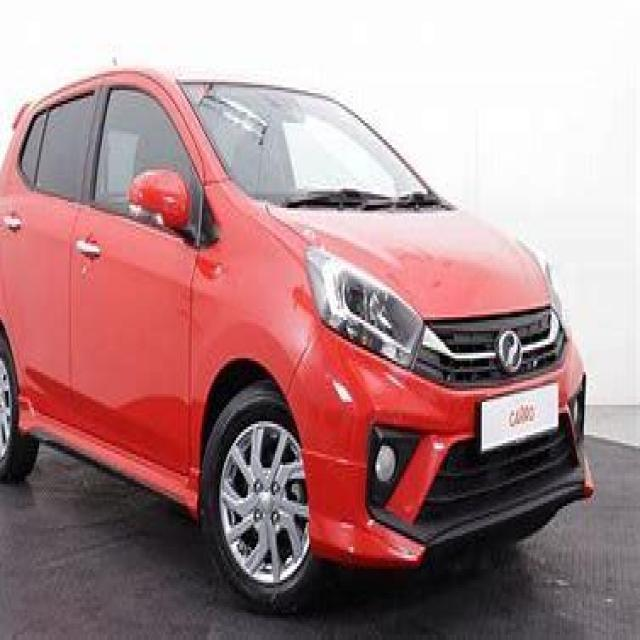PeroduaAxia: (0, 60, 596, 615)
